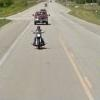Motorcycle: (26, 24, 58, 51)
